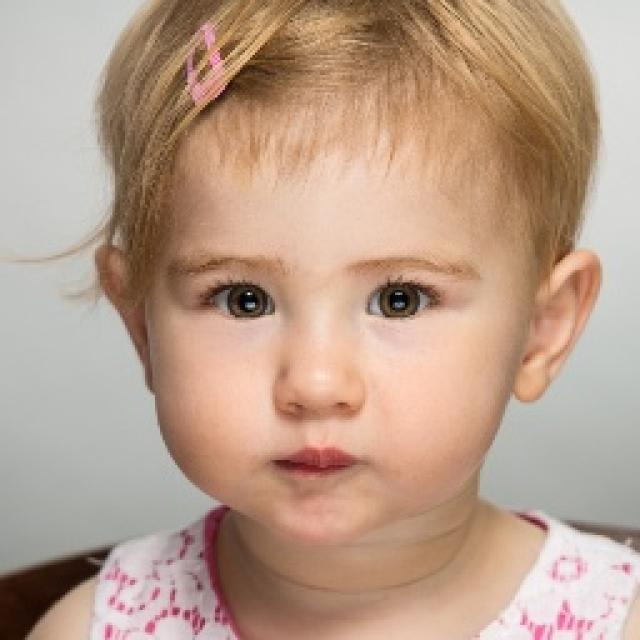earlobe: (511, 353, 551, 405), (136, 341, 156, 392)
eye: (204, 282, 281, 324), (366, 281, 443, 323)
nose: (281, 398, 365, 440)
wholeear: (511, 247, 603, 406), (92, 240, 157, 392)
